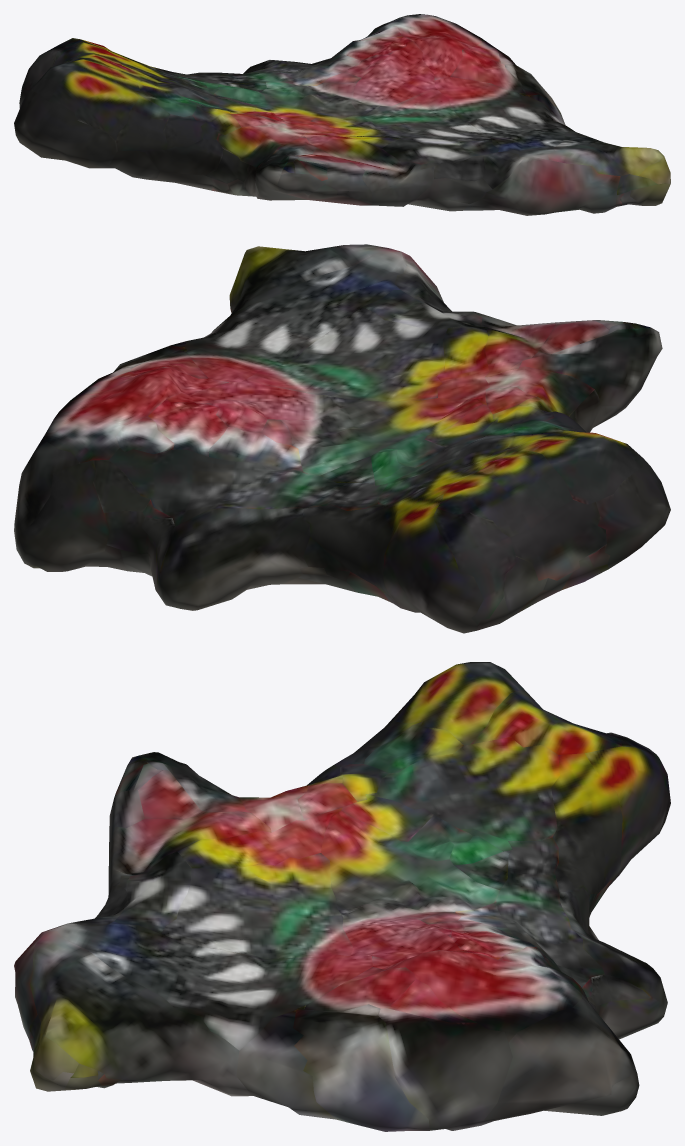
The model's file is hall.glb.
3 renders of one model, top to bottom at view 1: azimuth 30°, elevation 25°; view 2: azimuth 150°, elevation 25°; view 3: azimuth 270°, elevation 25°, orthographic. The views are drawn at different scales.
Size of the model in its own units: 0.6012 by 0.1846 by 0.529.
Materials: 1 (1 with a texture image).
